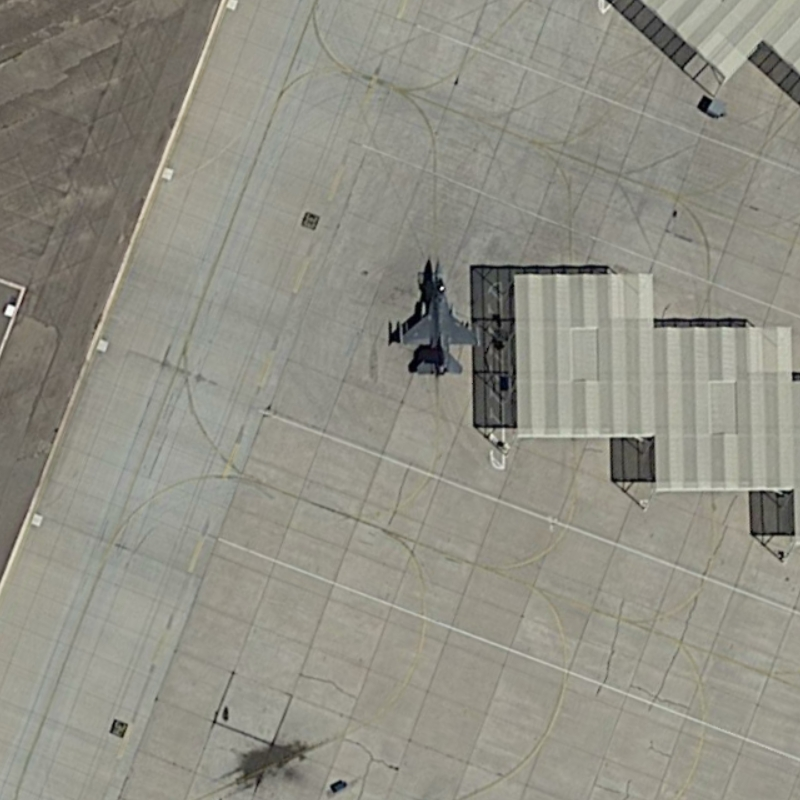A5: (387, 250, 486, 384)
